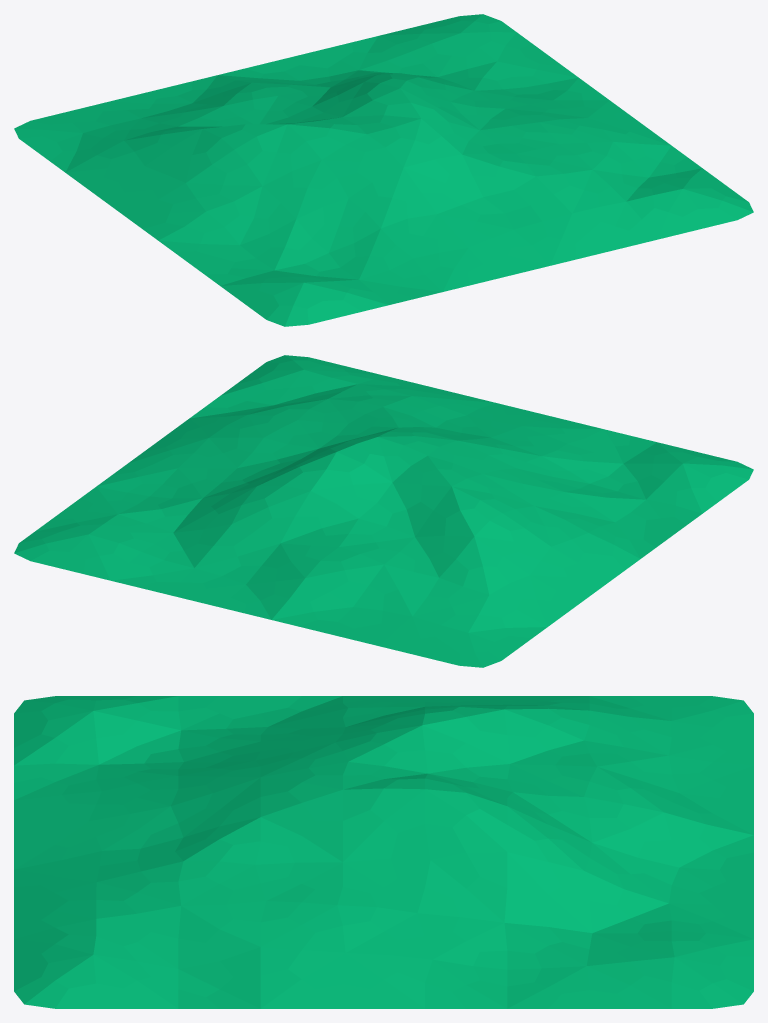
The model's file is low-poly_ground_plane.glb.
The picture shows the model from 3 angles, top to bottom: view 1: azimuth 30°, elevation 25°; view 2: azimuth 150°, elevation 25°; view 3: azimuth 270°, elevation 25°; orthographic projection. The views are drawn at different scales.
Parts seen in each view (by area): view 1: ground-plane_03; view 2: ground-plane_03; view 3: ground-plane_03.
Part boxes in pixels (bbox=[...]): ground-plane_03: bbox=[14, 14, 753, 326]; ground-plane_03: bbox=[14, 355, 753, 667]; ground-plane_03: bbox=[14, 696, 753, 1008].
Bounding box in the file's own units: 200 × 25 × 200.
